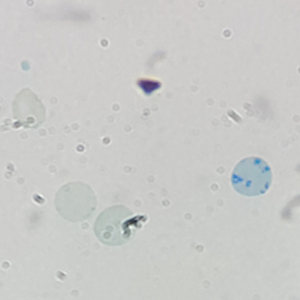aggregate reticulocyte: (229, 155, 274, 198)
erythrocyte: (92, 203, 138, 248), (10, 86, 49, 131)
punctate reticulocyte: (52, 180, 98, 223)
